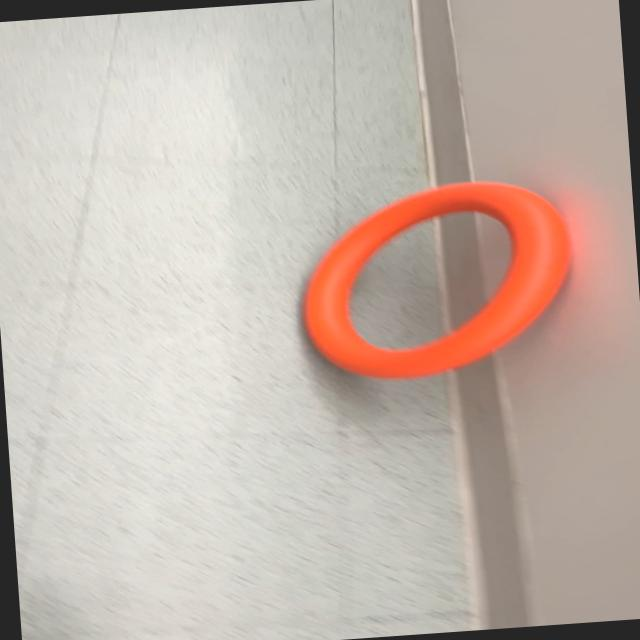note: (291, 173, 582, 387)
